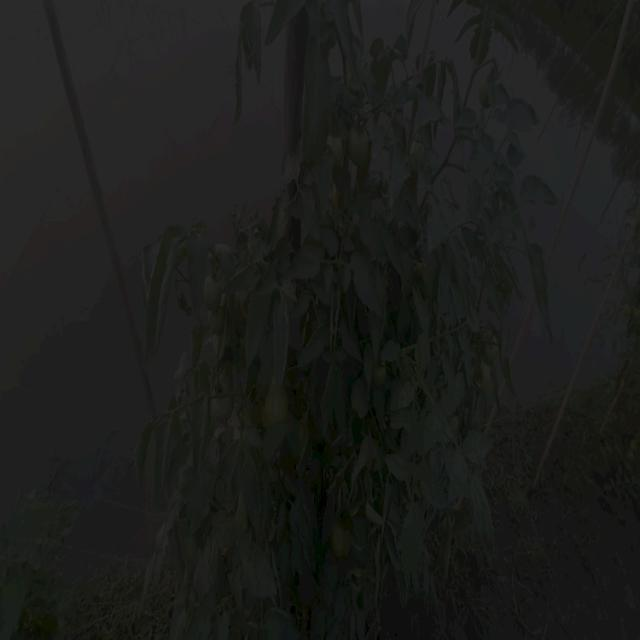tomato: (201, 267, 228, 314), (261, 393, 295, 422), (349, 129, 375, 165), (331, 531, 352, 564), (480, 334, 498, 361), (216, 396, 235, 421), (325, 137, 343, 156), (410, 137, 423, 158)
